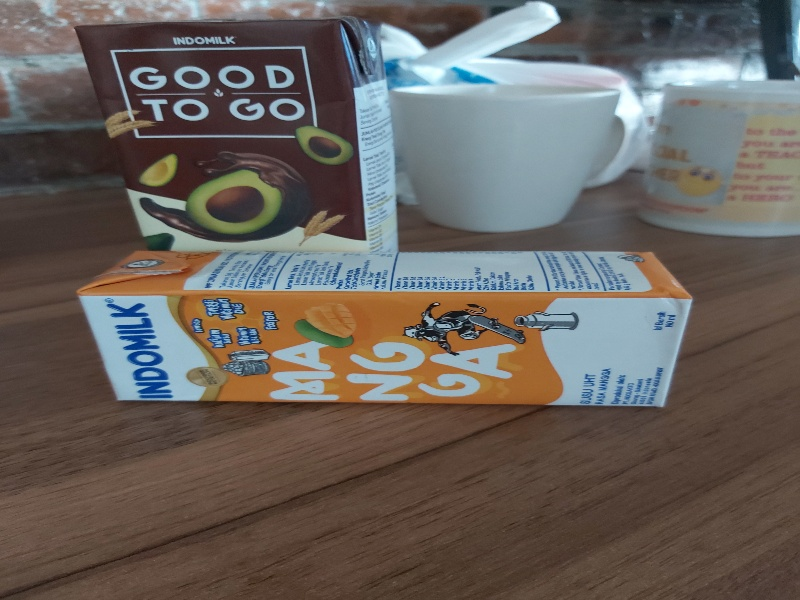cokelat: (72, 18, 404, 251)
mangga: (71, 252, 694, 408)
